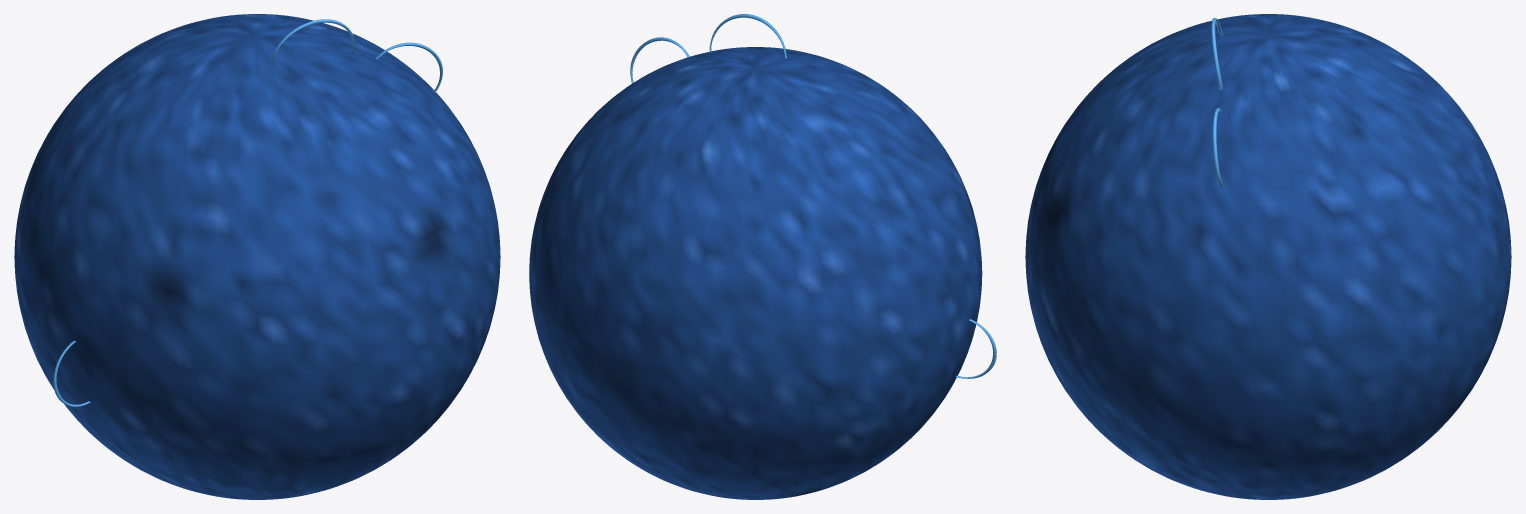
Rendered from Star_20.fbx.
3 views of the same model, side by side, from view 1: azimuth 30°, elevation 25°; view 2: azimuth 150°, elevation 25°; view 3: azimuth 270°, elevation 25° (orthographic). The views are drawn at different scales.
Parts seen in each view (by area): view 1: Star_20; view 2: Star_20; view 3: Star_20.
Part boxes in pixels (x1,y1,x2,y2): Star_20: (14, 14, 500, 499); Star_20: (529, 14, 996, 499); Star_20: (1025, 14, 1511, 499).
Bounding box in the file's own units: 210 × 213 × 200.
